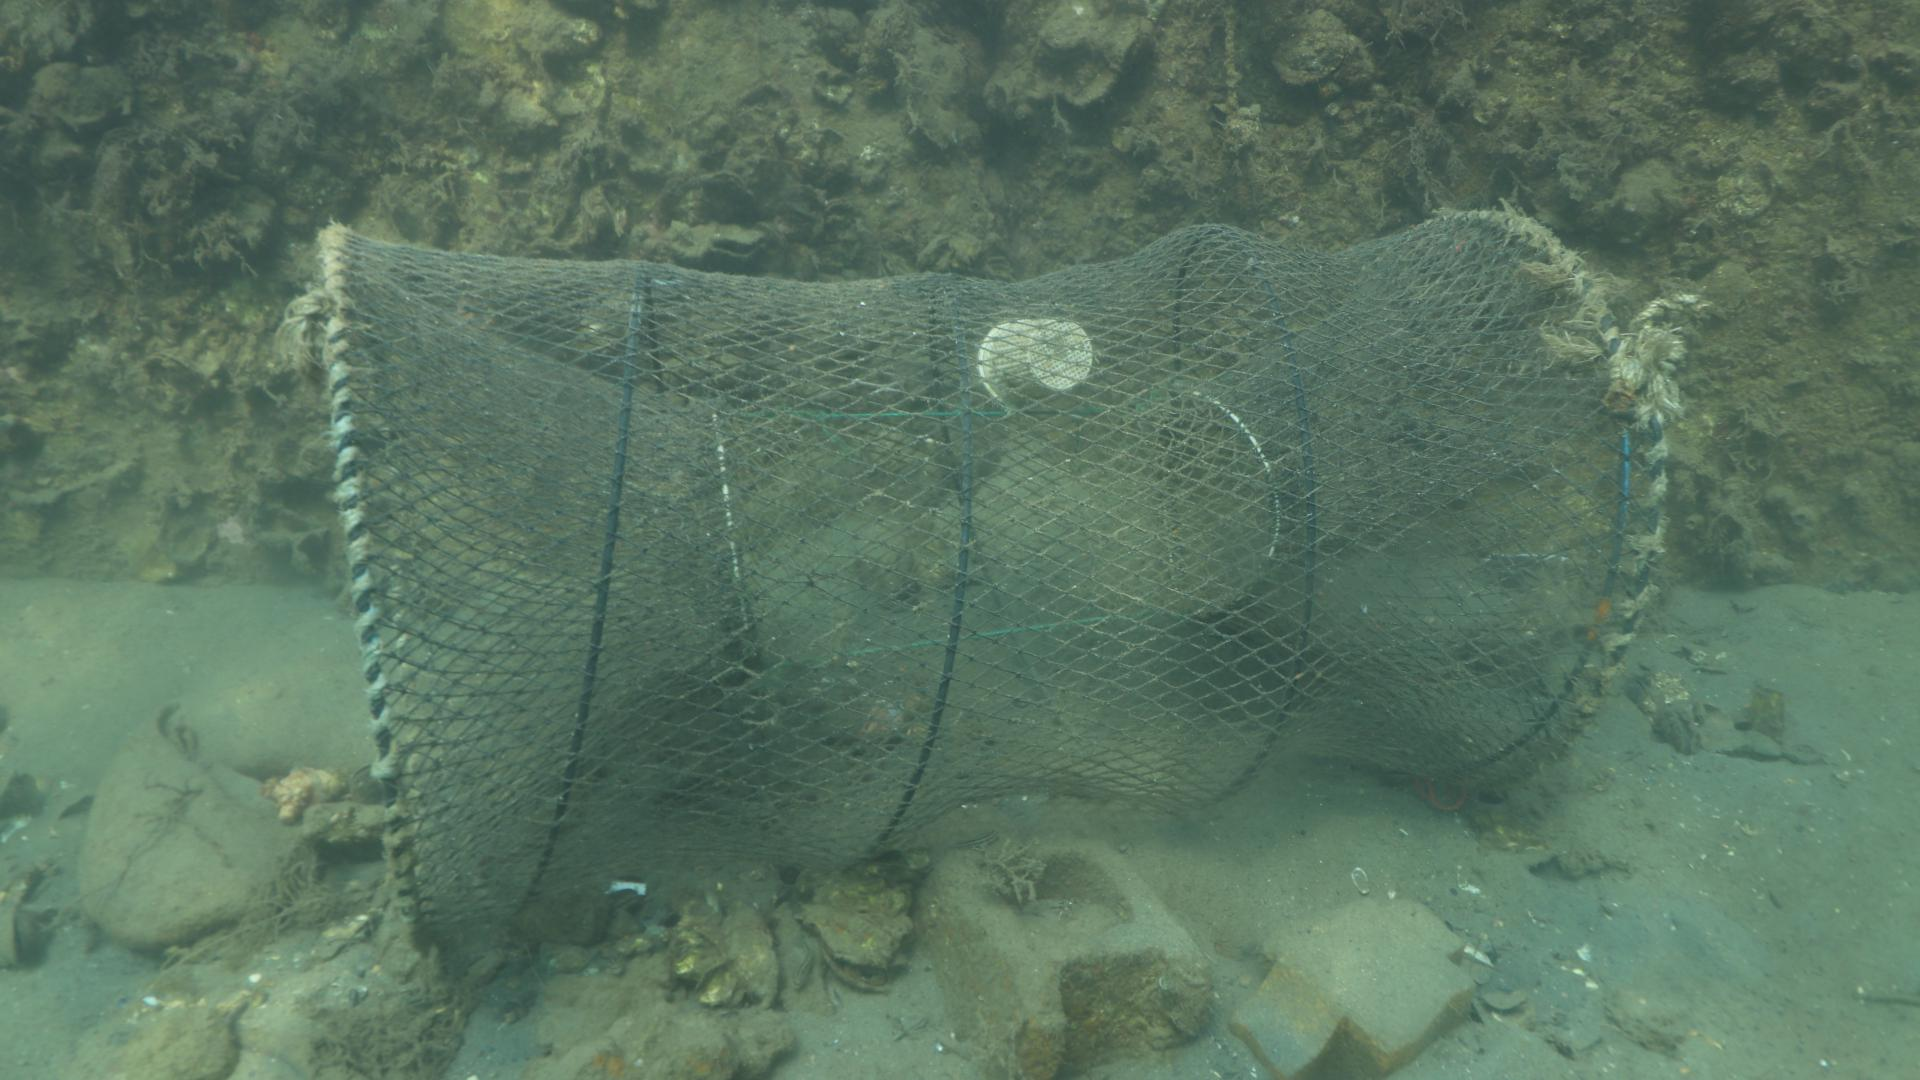spring fish trap: (314, 204, 1667, 951)
